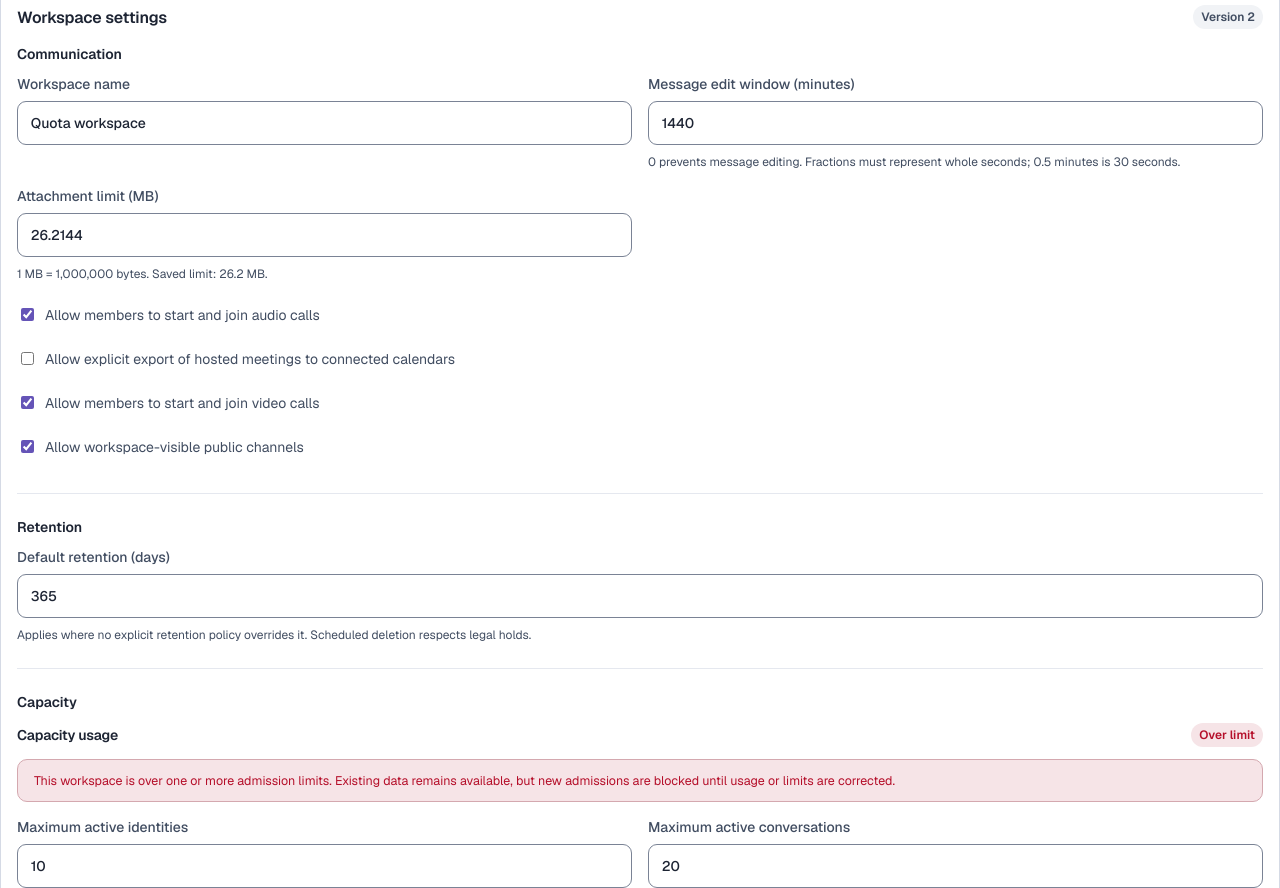
Test: TenantSettingsPanel › announces quota usage and submits all admission limits accessibly
Expected: the heading "Capacity usage" is shown, [17,726,118,744]
Expected: the message shows "new admissions are blocked", [34,772,895,789]
Replace the text in the number field labelled "Maximum active identities" with "12" at x=324, y=866, box [17,844,632,887]
(page scrolled)
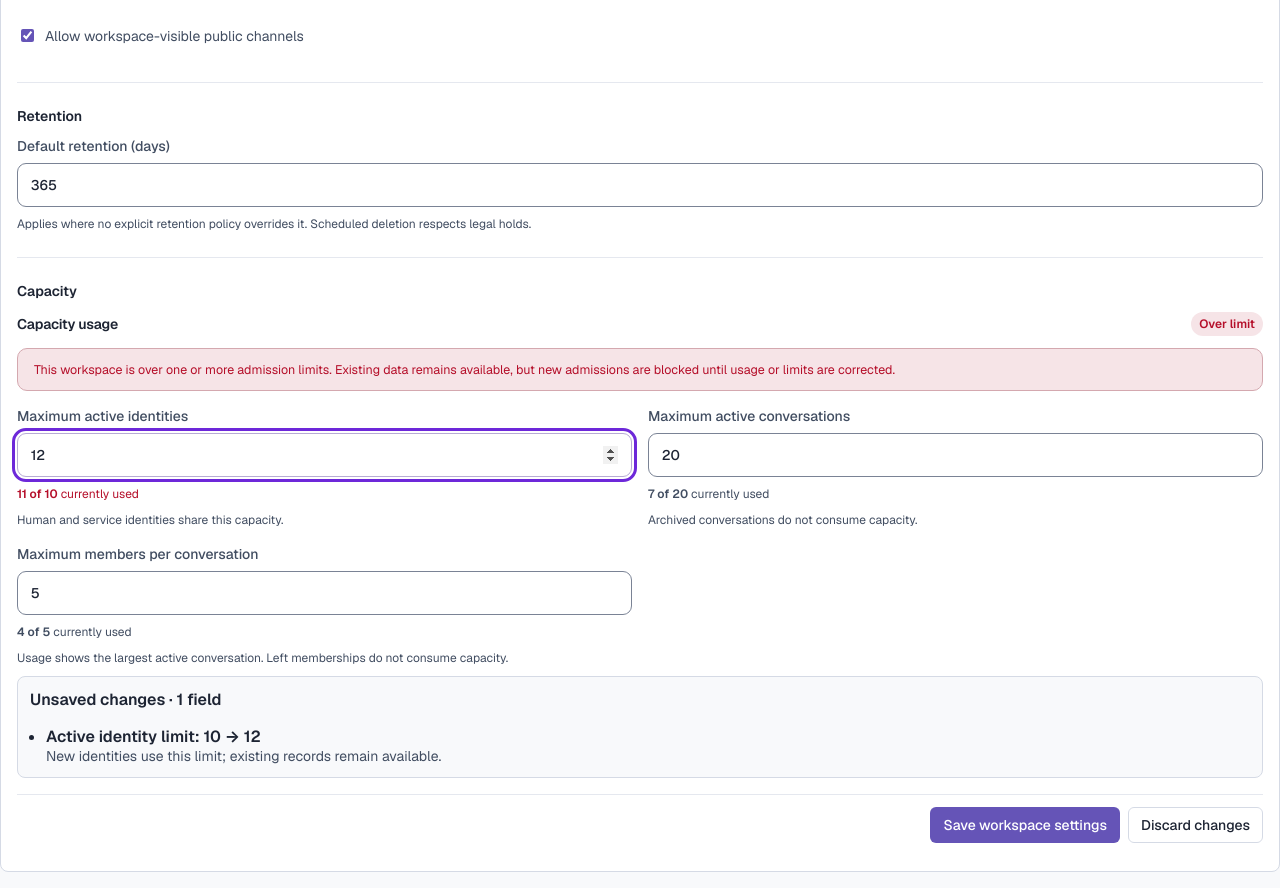
Click the button "Save workspace settings".
click(1025, 825)  # box [930,807,1120,843]
(page scrolled)
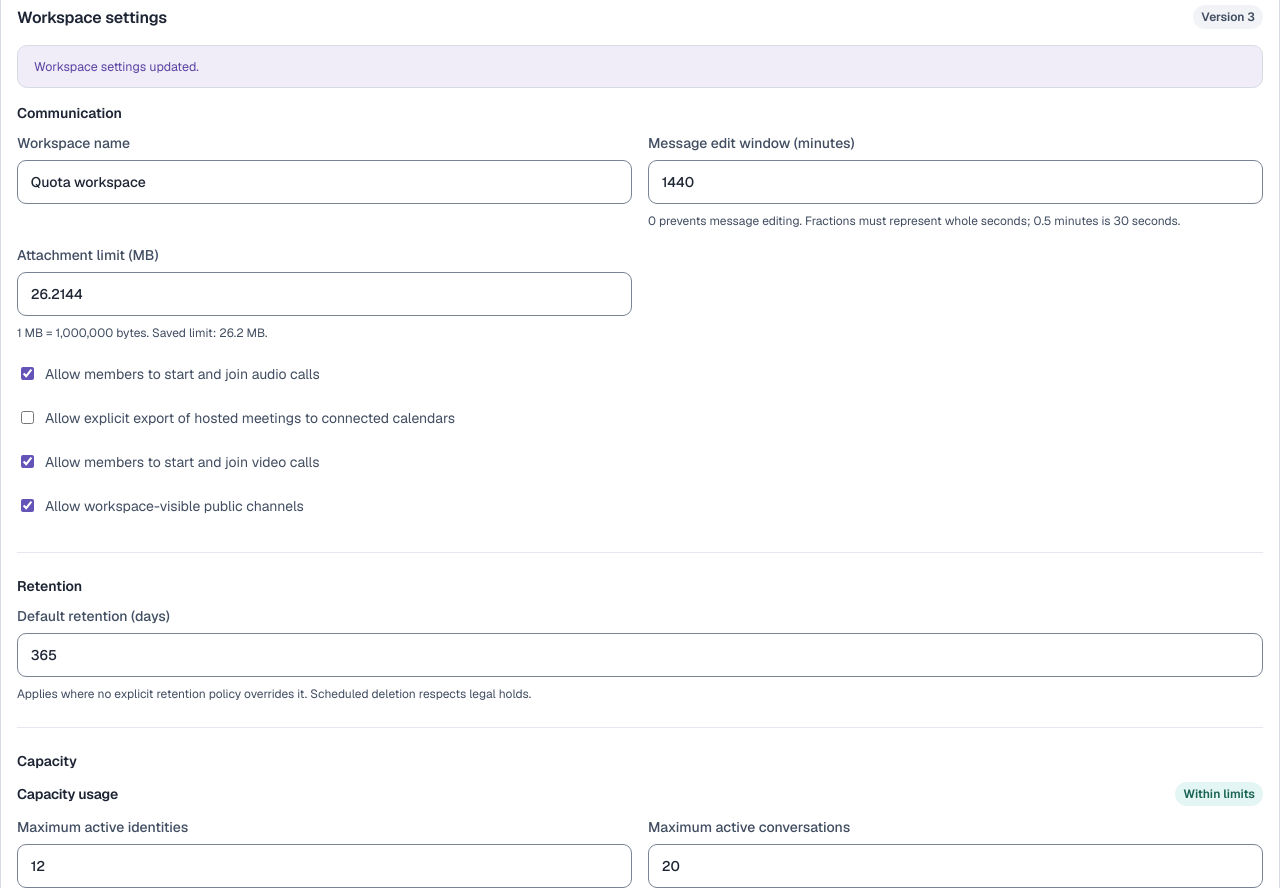
Expected: the text "Workspace settings updated." is shown, [17,45,1263,88]
